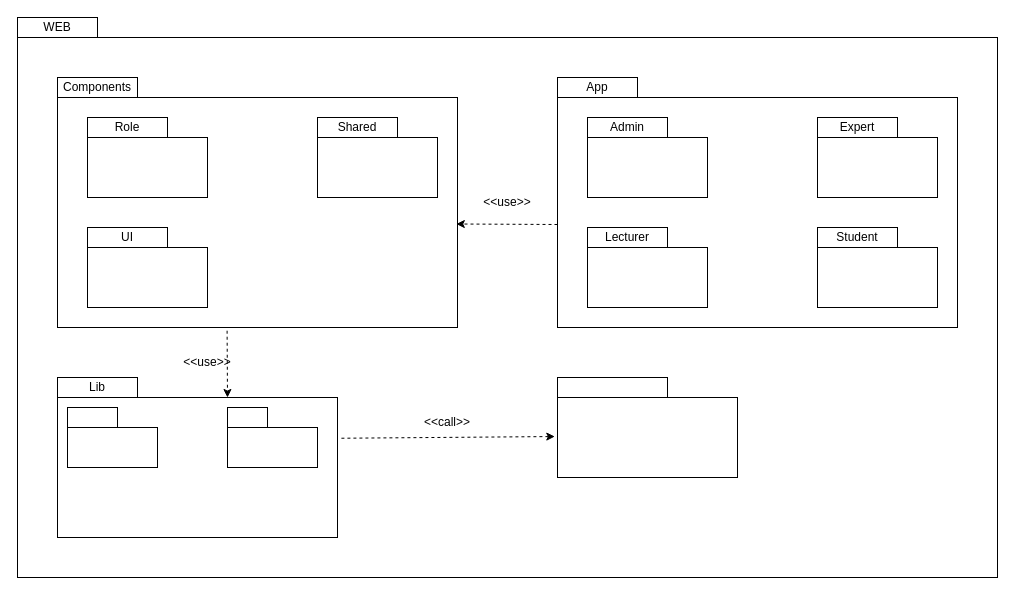
The diagram is 1015 pixels wide and 595 high, and some of its shapes have lost their labels. The shapes that lost their labels are listed below. From the top down, each one's box as (x1, y1, x2, y2) in pixels, then its label:
(556, 376, 668, 398): Backend Services
(66, 406, 118, 428): Utils
(226, 406, 268, 428): Style
